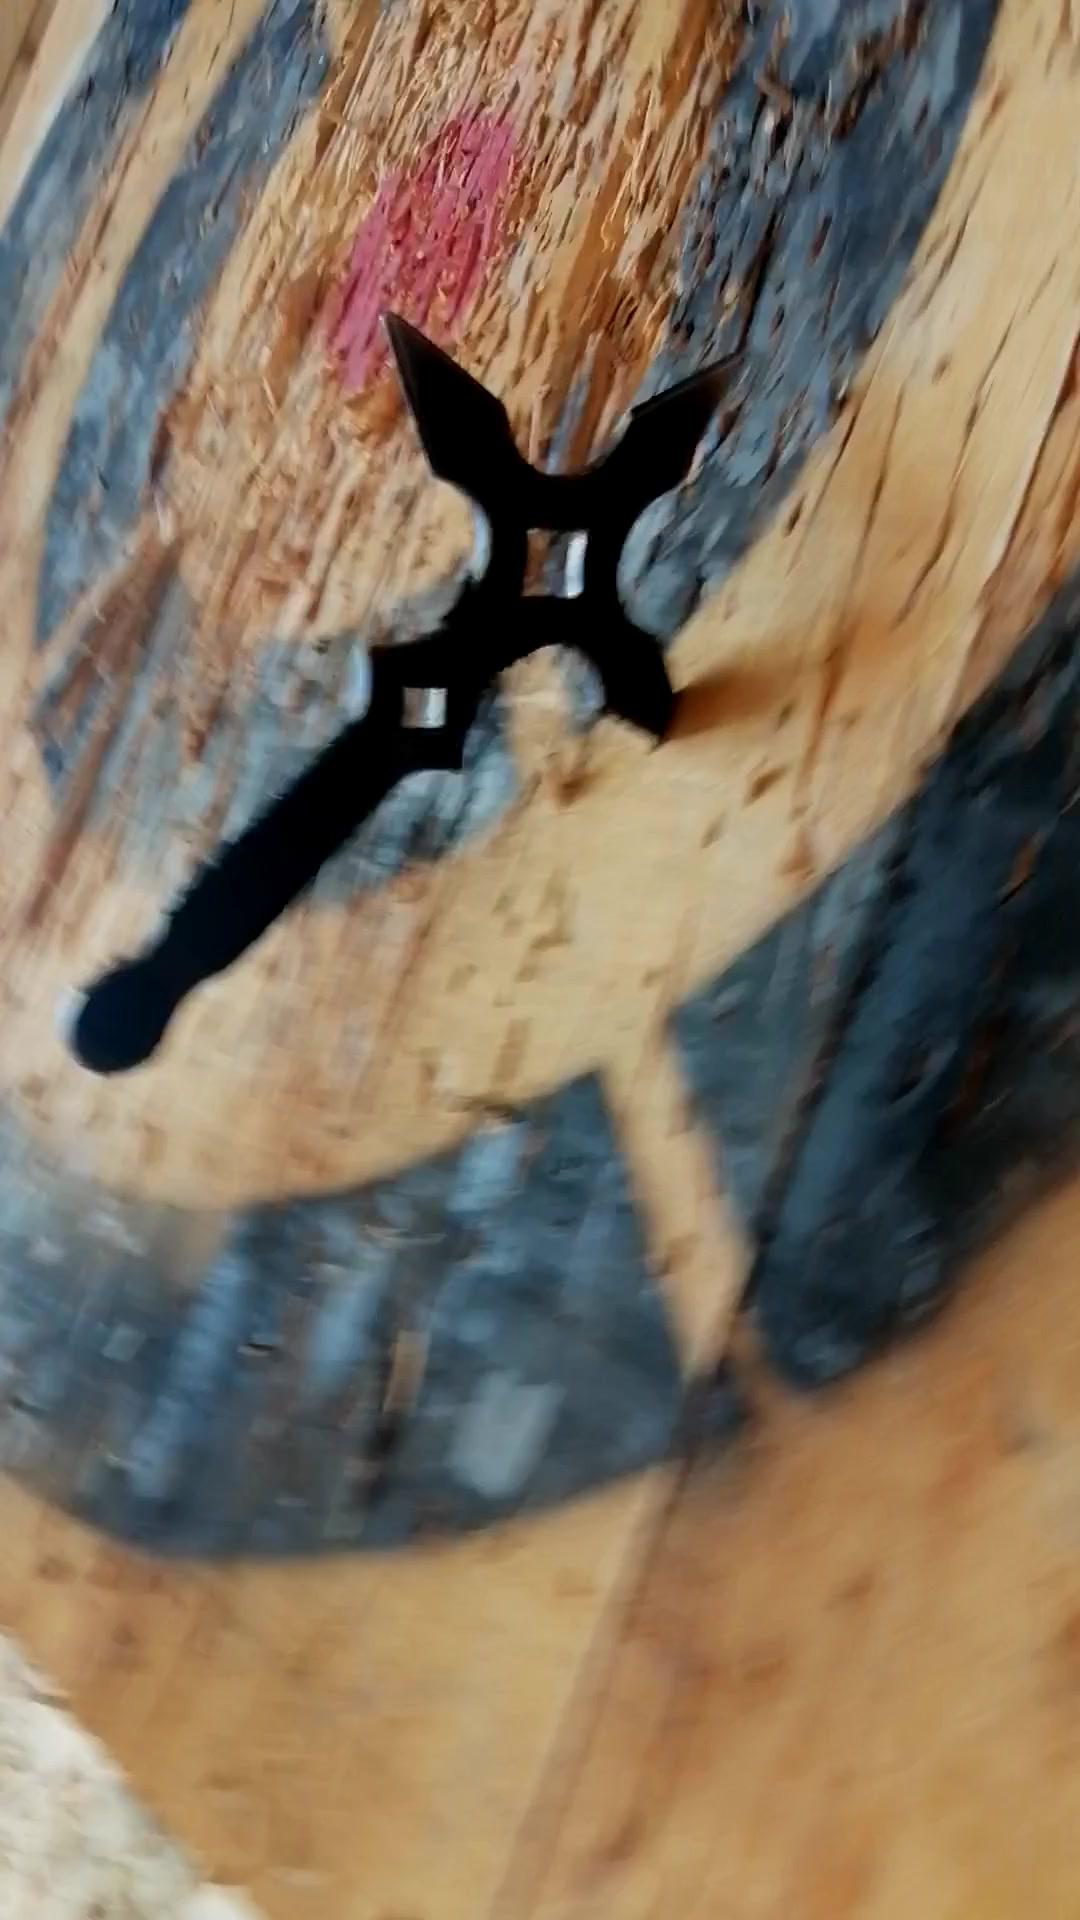Hand Axe: (61, 309, 753, 1085)
